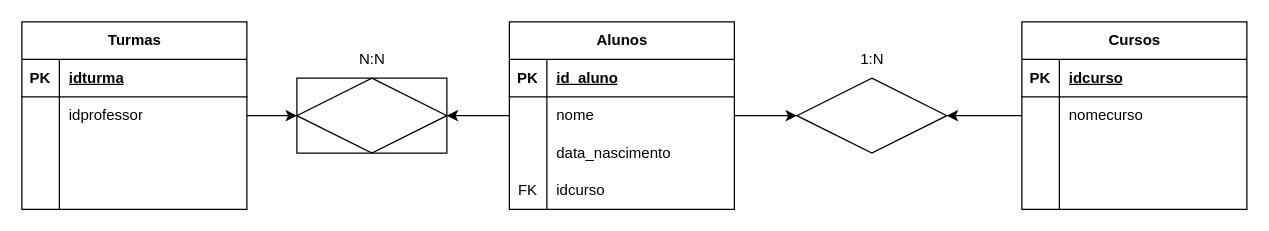
Image size: 1269x231. Some labels were removed from this diagram. Here are the shapes that lost their labels. From the top down, the centre of each, then its label:
(x=371, y=115): #id_turma #id_aluno
(x=871, y=115): Possuí
